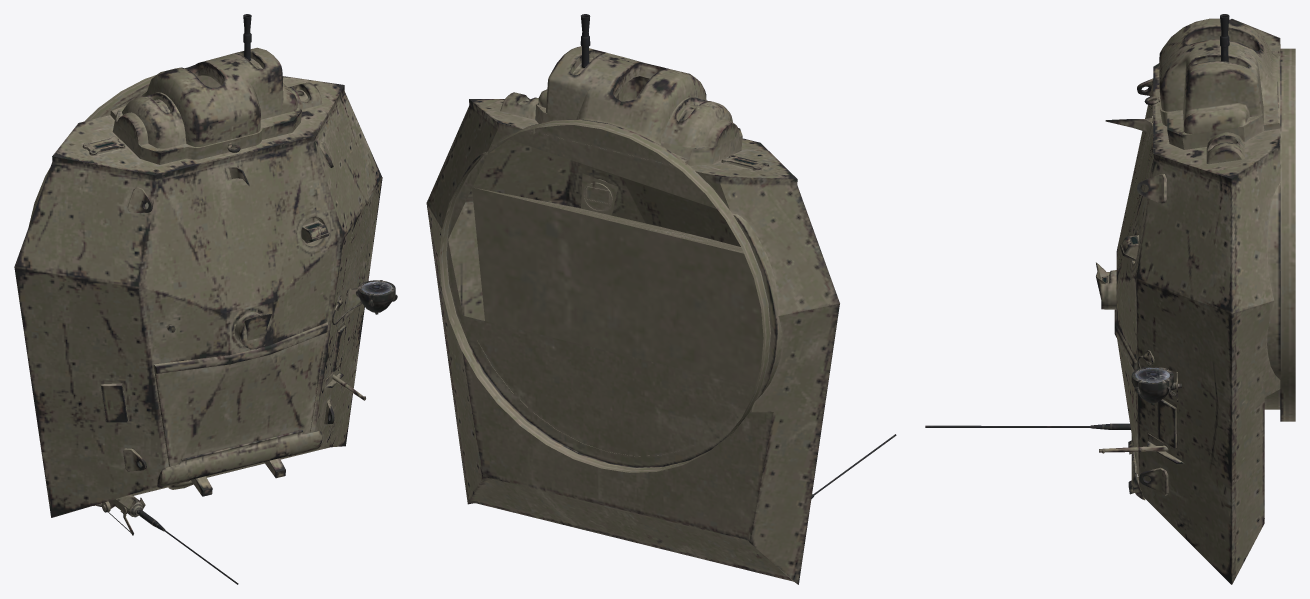
Rendered from Turret_01.glb.
3 renders of one model, left to right at view 1: azimuth 30°, elevation 25°; view 2: azimuth 150°, elevation 25°; view 3: azimuth 270°, elevation 25°, orthographic. The views are drawn at different scales.
Visible parts, largest first — view 1: set_0_group_0; view 2: set_0_group_0; view 3: set_0_group_0.
Boxes of the visible parts, x1=… form: set_0_group_0: x1=14, y1=14, x2=397, y2=584; set_0_group_0: x1=426, y1=14, x2=896, y2=584; set_0_group_0: x1=925, y1=14, x2=1295, y2=584.
Bounding box in the file's own units: 2.04 × 2.42 × 1.58.
Materials: 1 (1 with a texture image).
